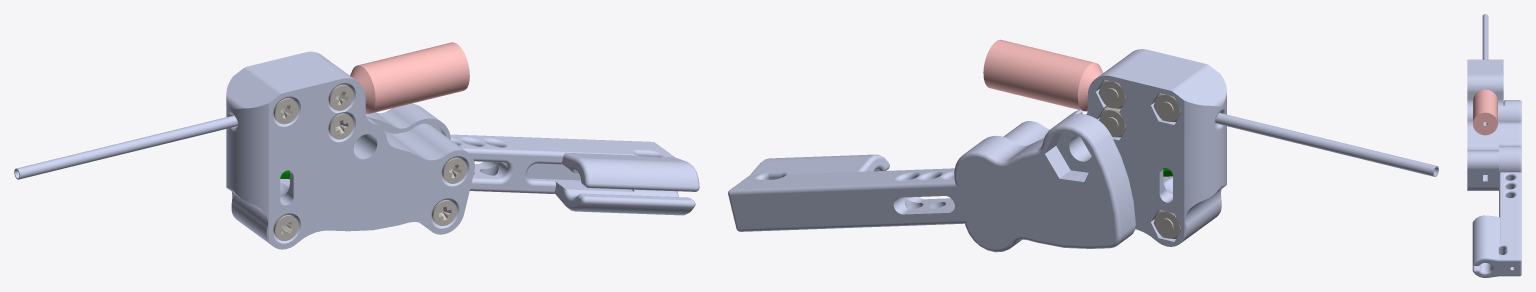
Rendered from everything.obj.
The picture shows the model from 3 angles, left to right: view 1: azimuth 30°, elevation 25°; view 2: azimuth 150°, elevation 25°; view 3: azimuth 270°, elevation 25°; orthographic projection. The views are drawn at different scales.
Visible parts, largest first — view 1: LS_Gehäuse_T2, Halter, Kanüle-1, LS_Gehäuse_T1, countersunk_flat_head_cross_recess_screw_din(DIN_EN_ISO_7046-1_-, Kanüle, Halter_2, Halter_1; view 2: Halter_1, LS_Gehäuse_T1, Halter_2, Halter, Kanüle-1, LS_Gehäuse_T2, Kanüle, hex_nut_style_1_gradeab_din(Hexagon_Nut_ISO_4032_-_M1.6_-_D_-_N), countersunk_flat_head_cross_recess_screw_din(DIN_EN_ISO_7046-1_-; view 3: Halter, LS_Gehäuse_T2, Halter_2, Halter_1, LS_Gehäuse_T1, Kanüle-1, Kanüle.
Part boxes in pixels (left/top/right/bottom): LS_Gehäuse_T2: left=231, top=65, right=474, bottom=249; Halter: left=450, top=134, right=699, bottom=215; Kanüle-1: left=350, top=42, right=469, bottom=113; LS_Gehäuse_T1: left=226, top=51, right=448, bottom=232; countersunk_flat_head_cross_recess_screw_din(DIN_EN_ISO_7046-1_-: left=273, top=84, right=466, bottom=240; Kanüle: left=14, top=115, right=237, bottom=179; Halter_2: left=503, top=136, right=676, bottom=182; Halter_1: left=366, top=103, right=450, bottom=139; Halter_1: left=954, top=109, right=1135, bottom=252; LS_Gehäuse_T1: left=1003, top=62, right=1221, bottom=246; Halter_2: left=728, top=168, right=895, bottom=231; Halter: left=754, top=154, right=978, bottom=226; Kanüle-1: left=983, top=39, right=1102, bottom=111; LS_Gehäuse_T2: left=1004, top=49, right=1226, bottom=229; Kanüle: left=1215, top=113, right=1438, bottom=176; hex_nut_style_1_gradeab_din(Hexagon_Nut_ISO_4032_-_M1.6_-_D_-_N): left=1098, top=80, right=1181, bottom=238; countersunk_flat_head_cross_recess_screw_din(DIN_EN_ISO_7046-1_-: left=1105, top=88, right=1173, bottom=232; Halter: left=1472, top=171, right=1521, bottom=277; LS_Gehäuse_T2: left=1467, top=59, right=1485, bottom=190; Halter_2: left=1495, top=201, right=1521, bottom=276; Halter_1: left=1499, top=100, right=1521, bottom=171; LS_Gehäuse_T1: left=1485, top=59, right=1503, bottom=190; Kanüle-1: left=1473, top=89, right=1497, bottom=135; Kanüle: left=1482, top=14, right=1488, bottom=125.
Size of the model in its own units: 85.79 by 28.45 by 12.
